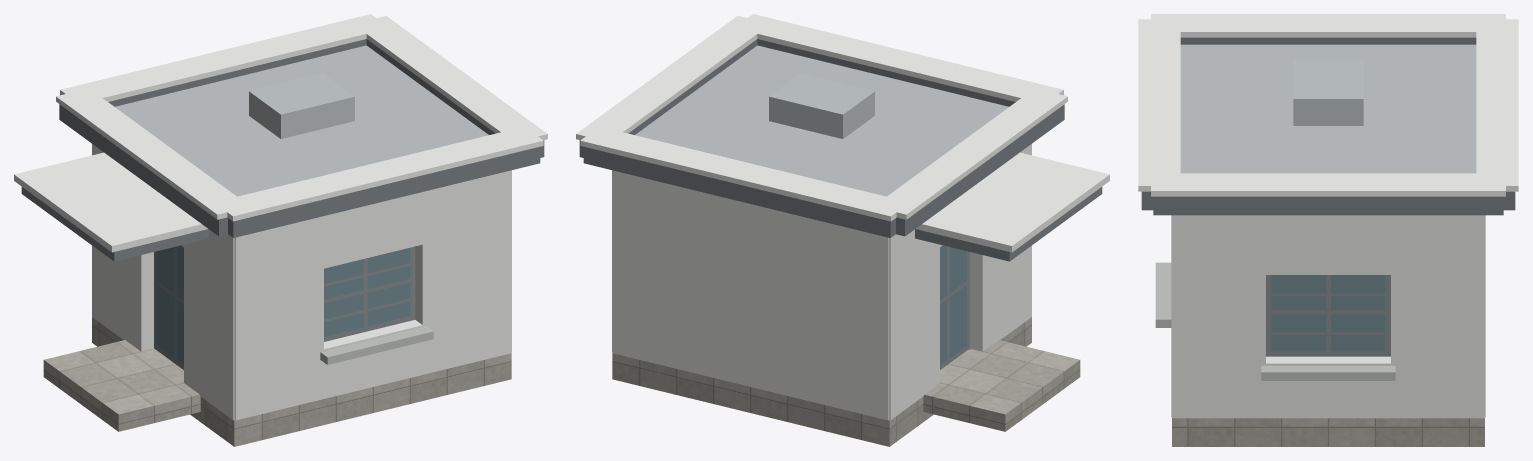
The picture shows the model from 3 angles, left to right: view 1: azimuth 30°, elevation 25°; view 2: azimuth 150°, elevation 25°; view 3: azimuth 270°, elevation 25°; orthographic projection. The views are drawn at different scales.
Visible parts, largest first — view 1: guard__panel, guard__cap, guard__metalroof, guard__darkframe, guard__threshold-front, guard__stone, guard__glass, guard__steel, guard__frame, guard__entrance, guard__sill; view 2: guard__panel, guard__cap, guard__metalroof, guard__darkframe, guard__threshold-front, guard__stone, guard__steel, guard__glass, guard__entrance, guard__frame; view 3: guard__panel, guard__metalroof, guard__cap, guard__darkframe, guard__stone, guard__glass, guard__steel, guard__sill, guard__frame.
Boxes of the visible parts, x1,y1,x2,y2 form: guard__panel: [92, 144, 511, 420]; guard__cap: [14, 14, 547, 252]; guard__metalroof: [115, 45, 488, 196]; guard__darkframe: [59, 39, 544, 237]; guard__threshold-front: [43, 340, 200, 431]; guard__stone: [92, 317, 511, 446]; guard__glass: [157, 245, 410, 364]; guard__steel: [249, 73, 354, 138]; guard__frame: [154, 246, 415, 369]; guard__entrance: [21, 187, 208, 261]; guard__sill: [320, 326, 433, 364]; guard__panel: [612, 144, 1031, 420]; guard__cap: [576, 14, 1109, 252]; guard__metalroof: [635, 45, 1008, 196]; guard__darkframe: [579, 39, 1064, 237]; guard__threshold-front: [923, 340, 1080, 431]; guard__stone: [612, 317, 1031, 446]; guard__steel: [769, 73, 874, 138]; guard__glass: [940, 245, 966, 364]; guard__entrance: [915, 187, 1102, 261]; guard__frame: [940, 246, 969, 369]; guard__panel: [1171, 215, 1485, 418]; guard__metalroof: [1180, 44, 1476, 173]; guard__cap: [1138, 14, 1518, 196]; guard__darkframe: [1141, 37, 1515, 215]; guard__stone: [1172, 417, 1484, 446]; guard__glass: [1271, 275, 1385, 351]; guard__steel: [1293, 59, 1363, 125]; guard__sill: [1155, 262, 1395, 380]; guard__frame: [1266, 275, 1390, 356].
Size of the model in its own units: 6.56 by 4.14 by 4.86.
10 materials, 1 textured.
